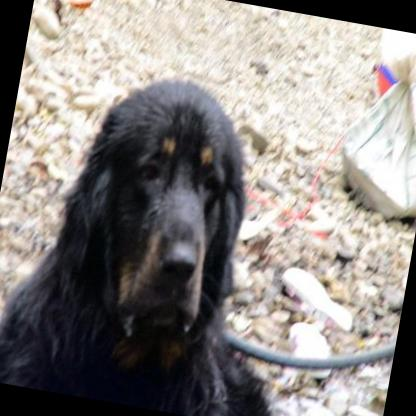Tibetan_mastiff: (0, 55, 327, 416)
